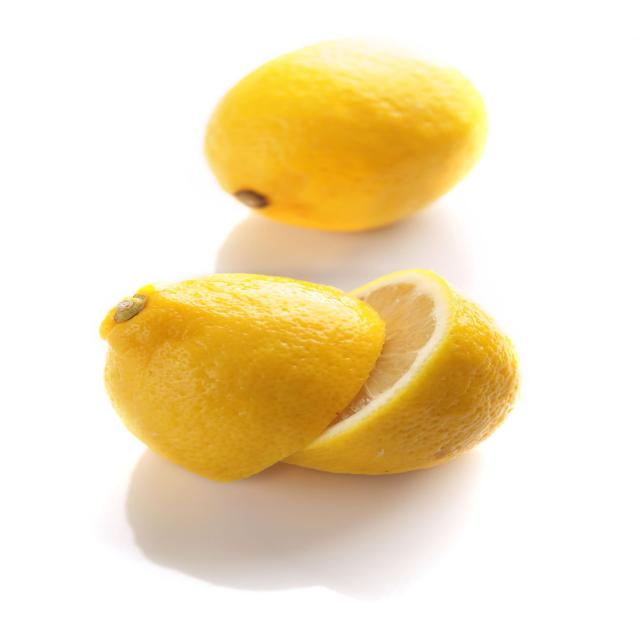lemon: (98, 259, 528, 485)
